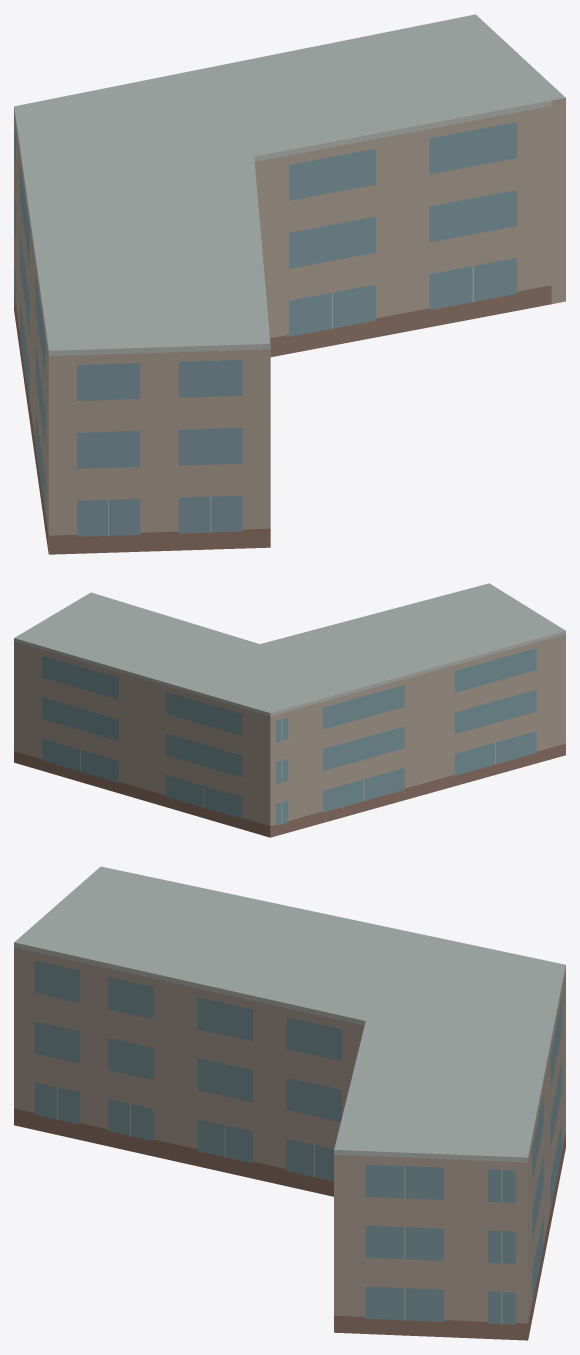
File: survey-upis-33019369.glb
The picture shows the model from 3 angles, top to bottom: view 1: azimuth 30°, elevation 25°; view 2: azimuth 150°, elevation 25°; view 3: azimuth 270°, elevation 25°; orthographic projection. The views are drawn at different scales.
Visible parts, largest first — view 1: survey-upis-33019369.tmp; view 2: survey-upis-33019369.tmp; view 3: survey-upis-33019369.tmp.
Boxes of the visible parts, left/top/right/bottom form: survey-upis-33019369.tmp: left=14, top=14, right=565, bottom=554; survey-upis-33019369.tmp: left=14, top=583, right=565, bottom=837; survey-upis-33019369.tmp: left=14, top=866, right=565, bottom=1340.
Size of the model in its own units: 31.26 by 9.15 by 25.03.
